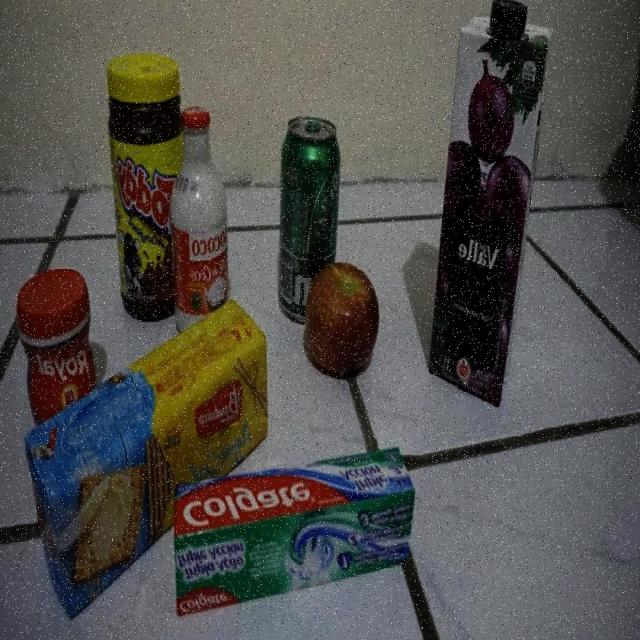Apple: (301, 262, 381, 376)
BeerCan: (276, 116, 342, 325)
CoconutMilk: (169, 105, 230, 342)
Cracker: (23, 298, 270, 619)
Toothpaste: (174, 445, 417, 619)
Yeast: (15, 266, 94, 428)
